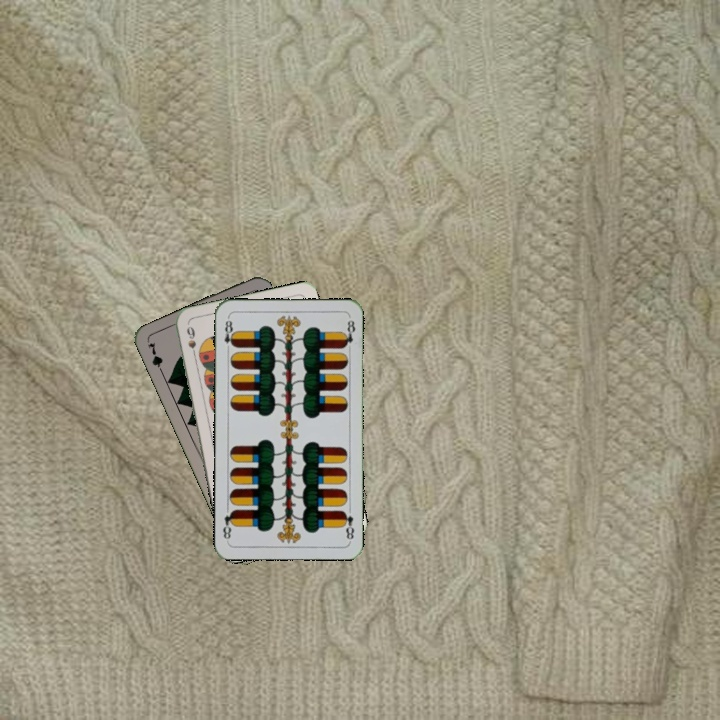E8: (220, 314, 237, 354), (338, 507, 357, 542)
G7: (144, 338, 167, 378)
S9: (183, 322, 199, 362)
